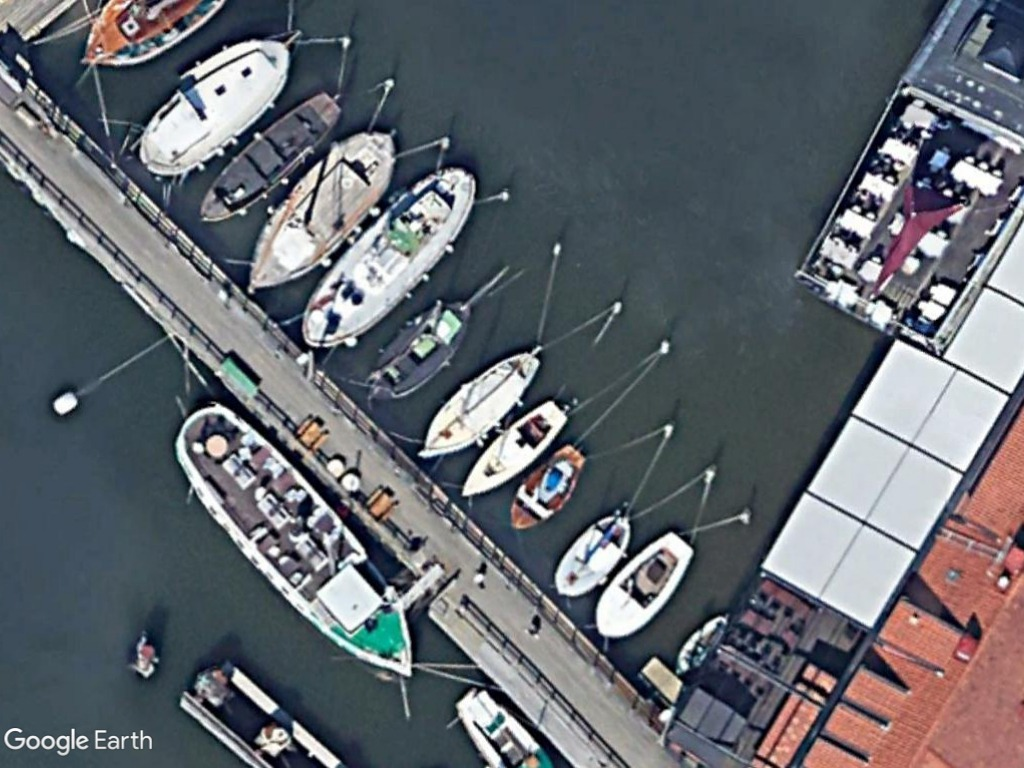boat: (173, 401, 425, 696), (289, 159, 480, 353), (233, 124, 405, 305), (123, 25, 294, 184), (187, 87, 349, 230), (413, 341, 547, 461), (447, 391, 580, 502), (357, 285, 474, 402), (588, 524, 697, 643), (497, 439, 592, 535), (550, 508, 642, 601)
